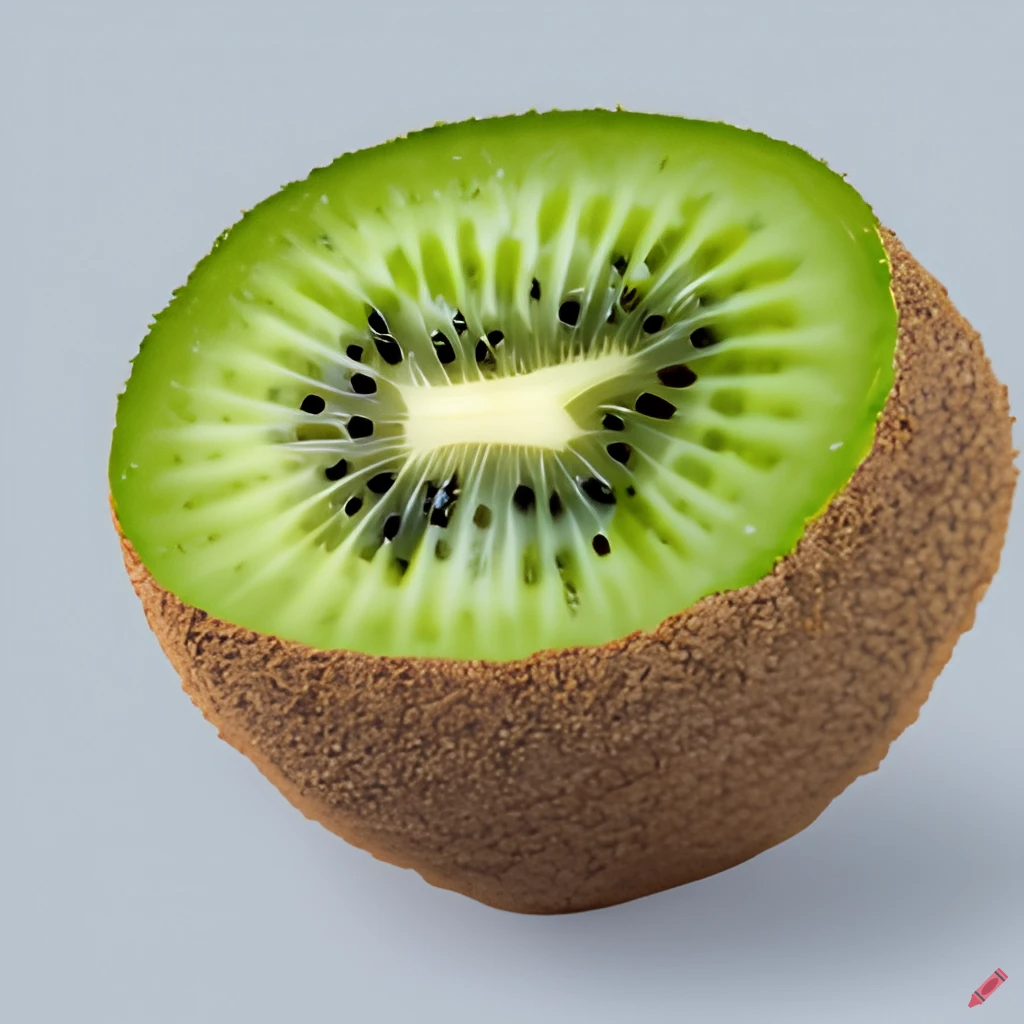Kiwi: (83, 91, 998, 938)
